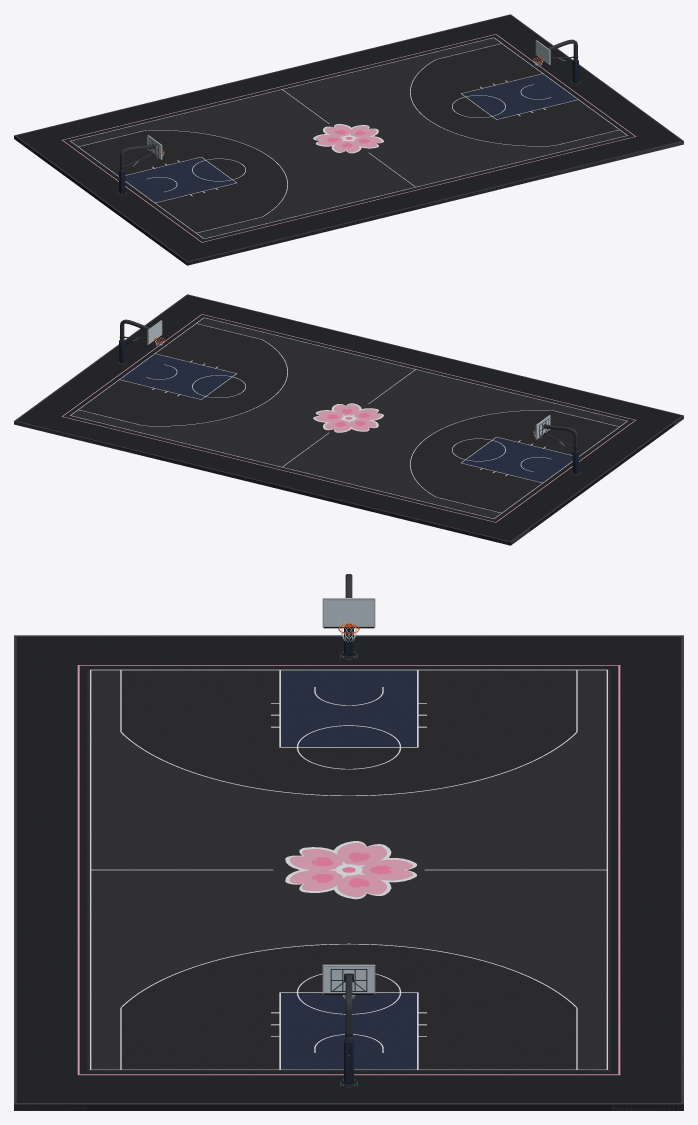
File: HEX_Tokyo_FullCourt.fbx
3 renders of one model, top to bottom at view 1: azimuth 30°, elevation 25°; view 2: azimuth 150°, elevation 25°; view 3: azimuth 270°, elevation 25°, orthographic. The views are drawn at different scales.
Parts seen in each view (by area): view 1: Floor_Surface, Floor_ThreePoint, Border_Apron_S, Border_Apron_N, Floor_Paint, Border_Apron_W, Border_Apron_E, Border_Edge, Lines, Graphics_Emblem, Graphics_PerimeterAccent; view 2: Floor_Surface, Floor_ThreePoint, Border_Apron_N, Border_Apron_S, Floor_Paint, Border_Apron_W, Border_Apron_E, Border_Edge, Lines, Graphics_Emblem, Graphics_PerimeterAccent; view 3: Floor_Surface, Floor_ThreePoint, Border_Apron_N, Border_Apron_S, Border_Apron_E, Floor_Paint, Border_Apron_W, Lines, Border_Edge, Graphics_Emblem, Graphics_PerimeterAccent, Hoop_B_Backboard_Glass (+1 smaller).
Part boxes in pixels (x1,y1,x2,y2): Floor_Surface: (69, 37, 628, 239); Floor_ThreePoint: (79, 44, 618, 232); Border_Apron_S: (168, 127, 681, 265); Border_Apron_N: (14, 15, 527, 150); Floor_Paint: (125, 74, 577, 202); Border_Apron_W: (33, 141, 202, 251); Border_Apron_E: (495, 28, 663, 135); Border_Edge: (14, 14, 683, 265); Lines: (70, 37, 627, 238); Graphics_Emblem: (313, 124, 383, 153); Graphics_PerimeterAccent: (62, 34, 635, 242); Floor_Surface: (69, 317, 628, 519); Floor_ThreePoint: (79, 324, 618, 512); Border_Apron_N: (16, 407, 527, 545); Border_Apron_S: (170, 295, 683, 432); Floor_Paint: (120, 354, 572, 482); Border_Apron_W: (495, 421, 664, 531); Border_Apron_E: (34, 308, 202, 415); Border_Edge: (14, 294, 683, 545); Lines: (70, 317, 627, 518); Graphics_Emblem: (313, 403, 383, 432); Graphics_PerimeterAccent: (62, 314, 635, 522); Floor_Surface: (87, 669, 610, 1071); Floor_ThreePoint: (121, 670, 576, 1069); Border_Apron_N: (610, 637, 683, 1110); Border_Apron_S: (14, 637, 87, 1110); Border_Apron_E: (87, 1071, 610, 1110); Floor_Paint: (281, 670, 416, 1069); Border_Apron_W: (87, 637, 610, 669); Lines: (90, 669, 607, 1069); Border_Edge: (14, 635, 683, 1110); Graphics_Emblem: (285, 841, 416, 899); Graphics_PerimeterAccent: (77, 665, 620, 1075); Hoop_B_Backboard_Glass: (324, 600, 373, 626).
Bounding box in the file's own units: 141 × 13.25 × 84.99.
8 materials, 5 textured.
